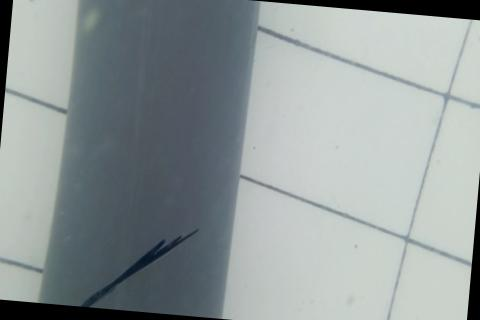keretakan: (72, 214, 202, 316)
